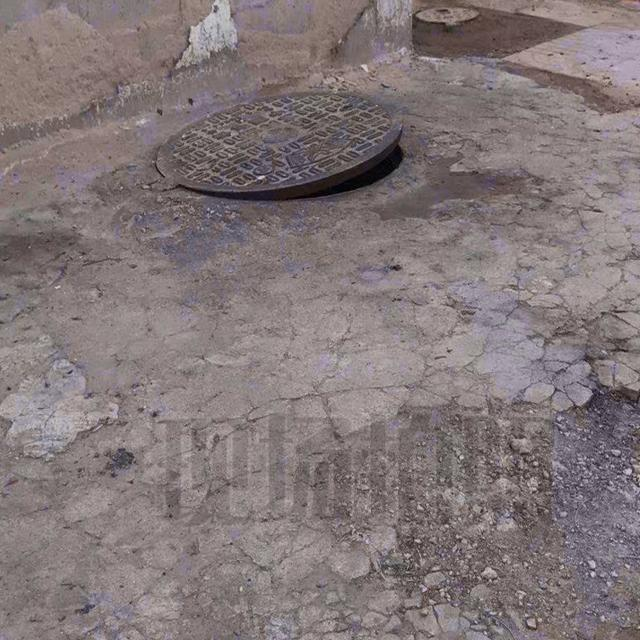uncovered: (148, 88, 403, 206)
